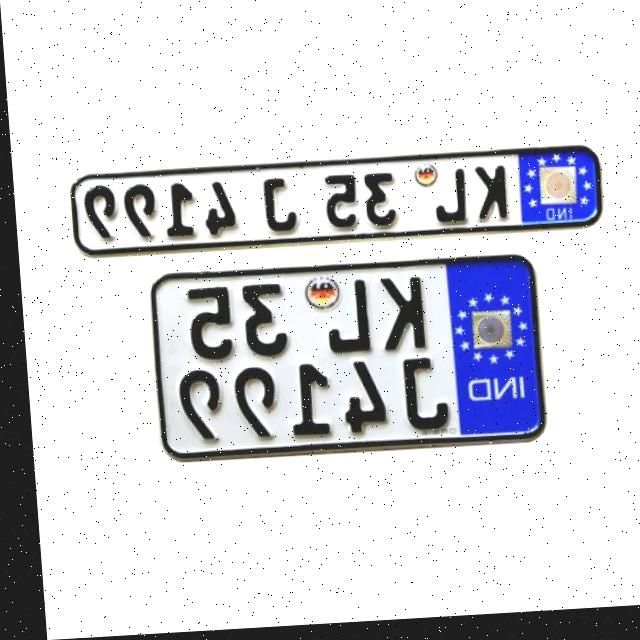plate: (138, 255, 547, 466), (62, 144, 609, 267)
